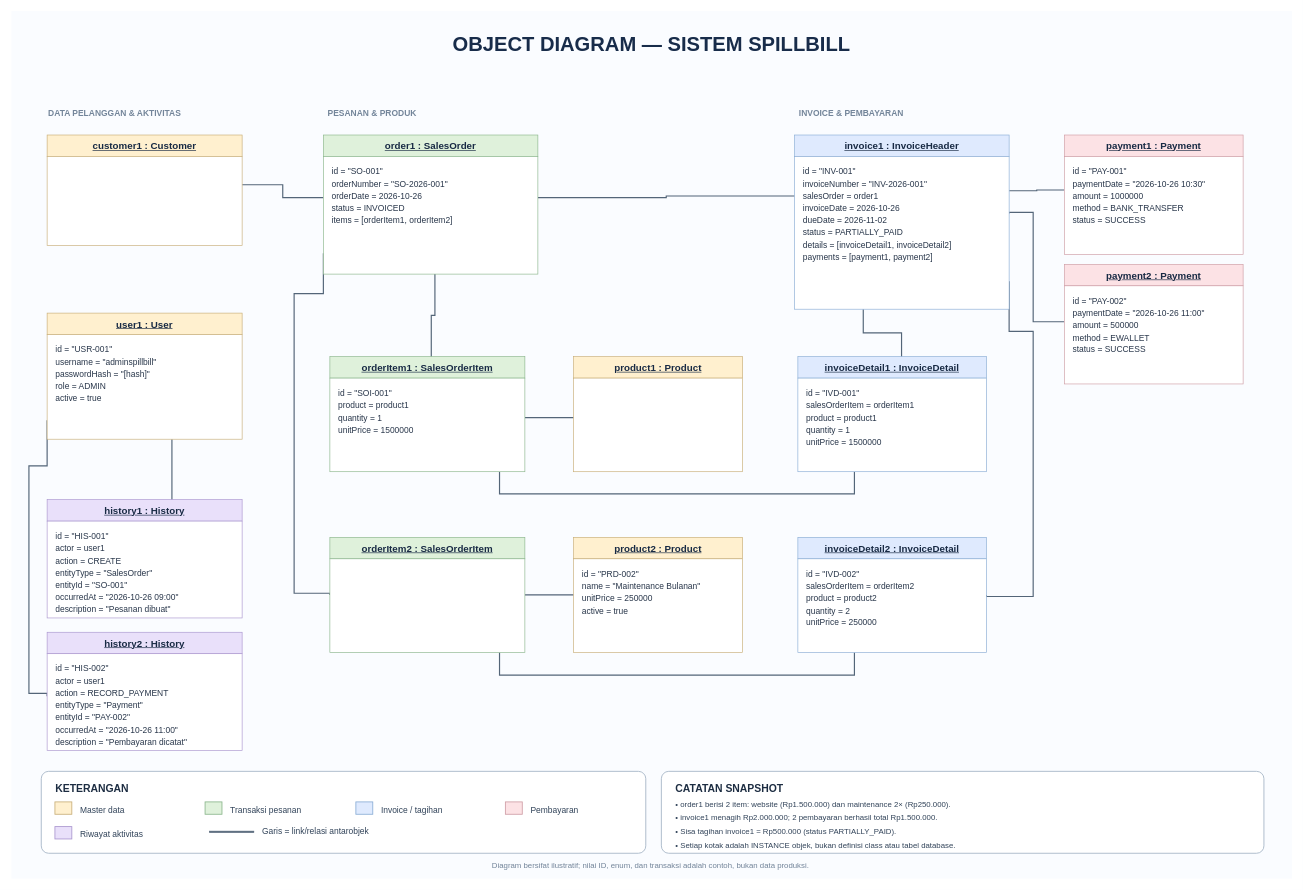
The diagram is 1303 pixels wide and 890 high, and some of its shapes have lost their labels. Here are the shapes that lost their labels. From the top down, the centre of each, then its label:
the point at 144,201: id = "CUS-001" name = "CV Sinar Jaya" contactInfo = "admin@sinarjaya.id"
the point at 658,424: id = "PRD-001" name = "Pembuatan Website" unitPrice = 1500000 active = true
the point at 427,605: id = "SOI-002" product = product2 quantity = 2 unitPrice = 250000
